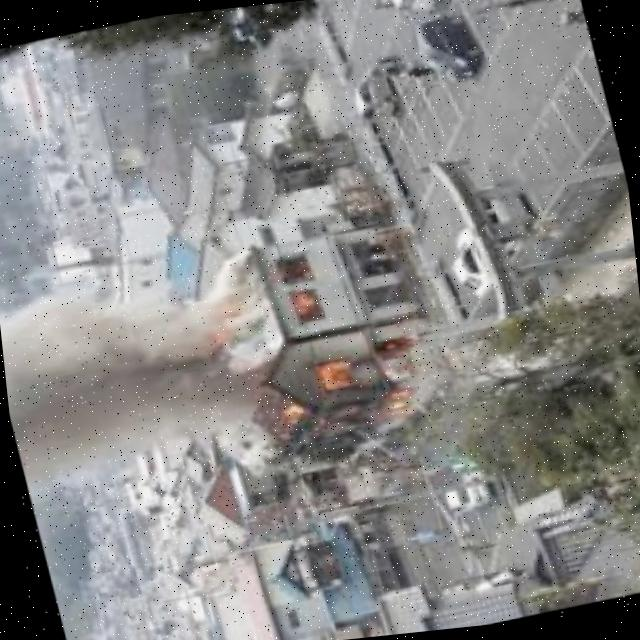fire: (267, 333, 436, 455), (282, 280, 320, 333)
